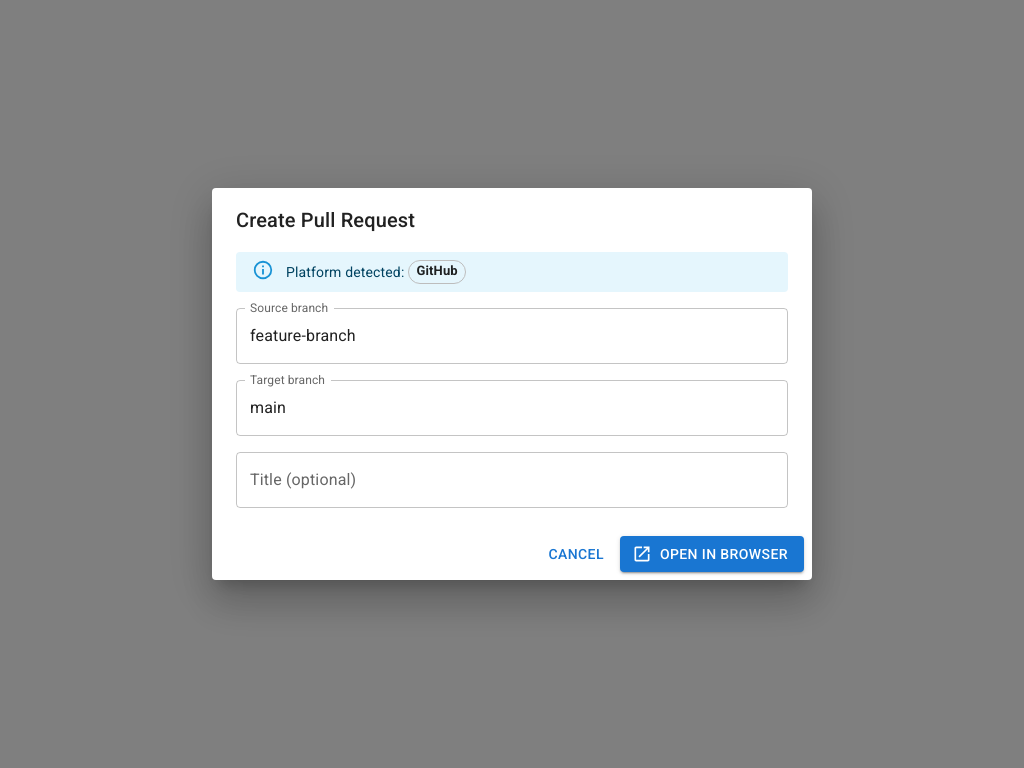
Scenario: disables submit button while loading
Check: the field labelled "Source branch" holds "feature-branch", box x1=236 y1=308 x2=788 y2=364
Step 1. Click the button "Open in Browser" → {"x": 712, "y": 554}, box x1=620 y1=536 x2=804 y2=572
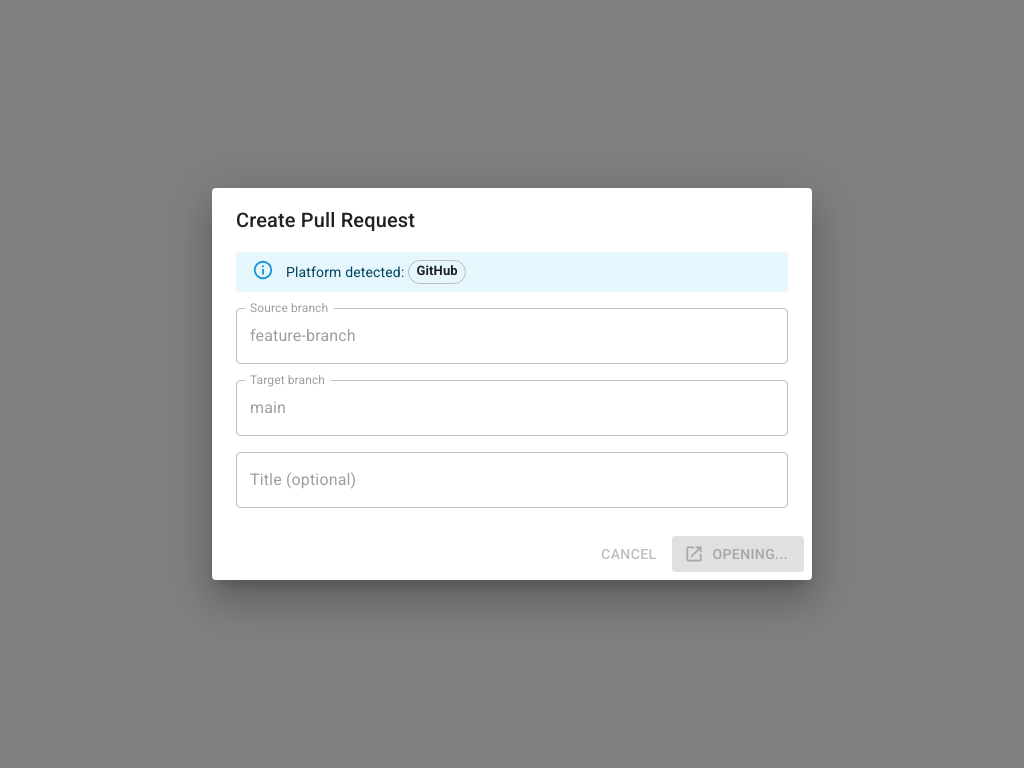
Check: the button "Opening..." is disabled, box x1=672 y1=536 x2=804 y2=572
